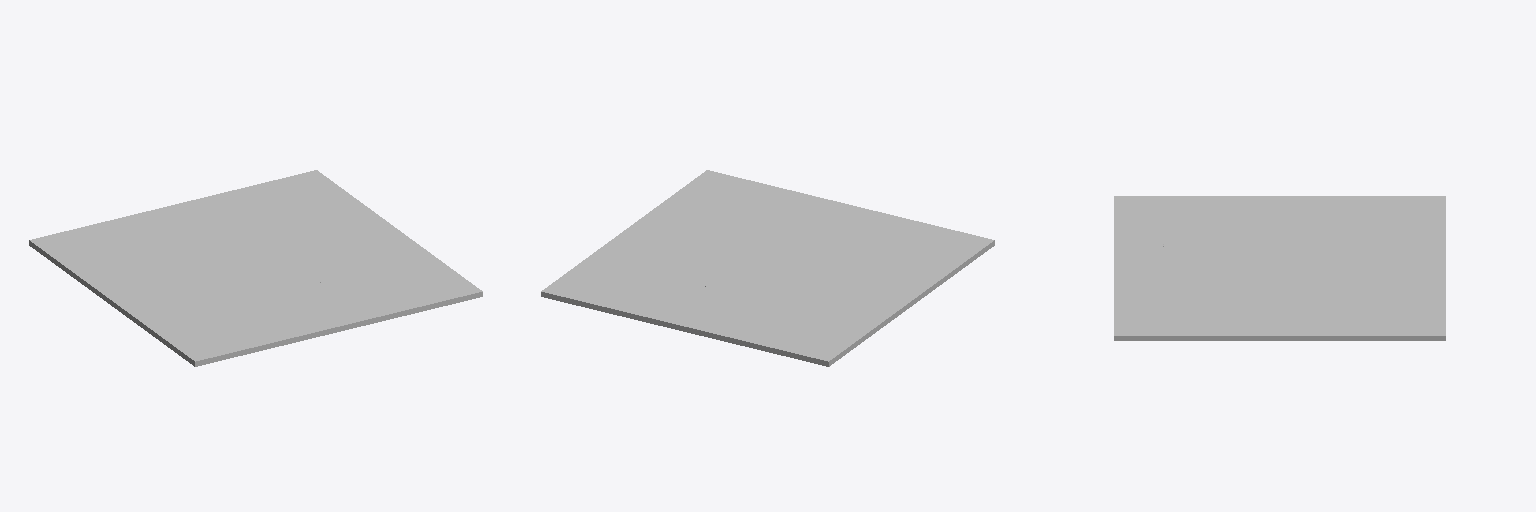
Rendered from chessboard4.obj.
The picture shows the model from 3 angles: view 1: azimuth 30°, elevation 25°; view 2: azimuth 150°, elevation 25°; view 3: azimuth 270°, elevation 25°; orthographic projection.
Visible parts, largest first — view 1: group_8.001_ID931, instance_114_ID1752, group_9.001_ID1028, group_5.004_ID736, group_6.009_ID881, instance_116_ID1770, instance_67_ID1329, instance_50_ID1176, instance_56_ID1230, instance_59_ID1257, instance_65_ID1311, instance_73_ID1383 (+28 smaller); view 2: instance_113_ID1743, group_8.001_ID931, group_9.001_ID1028, group_5.004_ID736, group_6.009_ID881, instance_116_ID1770, instance_51_ID1185, instance_45_ID1117, instance_58_ID1248, instance_66_ID1320, instance_77_ID1419, instance_80_ID1446 (+28 smaller); view 3: instance_115_ID1761, group_9.001_ID1028, group_8.001_ID931, group_5.004_ID736, group_6.009_ID881, instance_47_ID1142, instance_48_ID1158, instance_49_ID1167, instance_50_ID1176, instance_51_ID1185, instance_54_ID1212, instance_57_ID1239 (+28 smaller).
Boxes of the visible parts, box(x1,y1,x2,y2) form: group_8.001_ID931: box(197, 289, 478, 359); instance_114_ID1752: box(195, 291, 482, 366); group_9.001_ID1028: box(32, 171, 315, 242); group_5.004_ID736: box(311, 171, 478, 290); group_6.009_ID881: box(33, 241, 200, 359); instance_116_ID1770: box(29, 240, 195, 366); instance_67_ID1329: box(270, 237, 318, 257); instance_50_ID1176: box(188, 239, 236, 259); instance_56_ID1230: box(376, 283, 424, 303); instance_59_ID1257: box(352, 235, 400, 255); instance_65_ID1311: box(265, 202, 314, 222); instance_73_ID1383: box(220, 231, 268, 251); instance_113_ID1743: box(541, 291, 828, 366); group_8.001_ID931: box(708, 171, 991, 242); group_9.001_ID1028: box(545, 289, 826, 359); group_5.004_ID736: box(545, 171, 712, 290); group_6.009_ID881: box(823, 241, 990, 359); instance_116_ID1770: box(828, 240, 994, 366); instance_51_ID1185: box(705, 237, 753, 257); instance_45_ID1117: box(763, 287, 811, 307); instance_58_ID1248: box(660, 208, 708, 228); instance_66_ID1320: box(599, 283, 647, 303); instance_77_ID1419: box(709, 202, 758, 222); instance_80_ID1446: box(623, 235, 671, 255); instance_115_ID1761: box(1114, 335, 1445, 340); group_9.001_ID1028: box(1429, 197, 1443, 334); group_8.001_ID931: box(1116, 197, 1130, 334); group_5.004_ID736: box(1118, 329, 1441, 334); group_6.009_ID881: box(1118, 197, 1441, 202); instance_47_ID1142: box(1317, 281, 1353, 296); instance_48_ID1158: box(1317, 219, 1353, 234); instance_49_ID1167: box(1280, 250, 1316, 265); instance_50_ID1176: box(1317, 250, 1353, 265); instance_51_ID1185: box(1243, 281, 1279, 296); instance_54_ID1212: box(1133, 250, 1169, 265); instance_57_ID1239: box(1133, 281, 1169, 296).
Size of the model in its own units: 3.08 by 0.31 by 3.08.